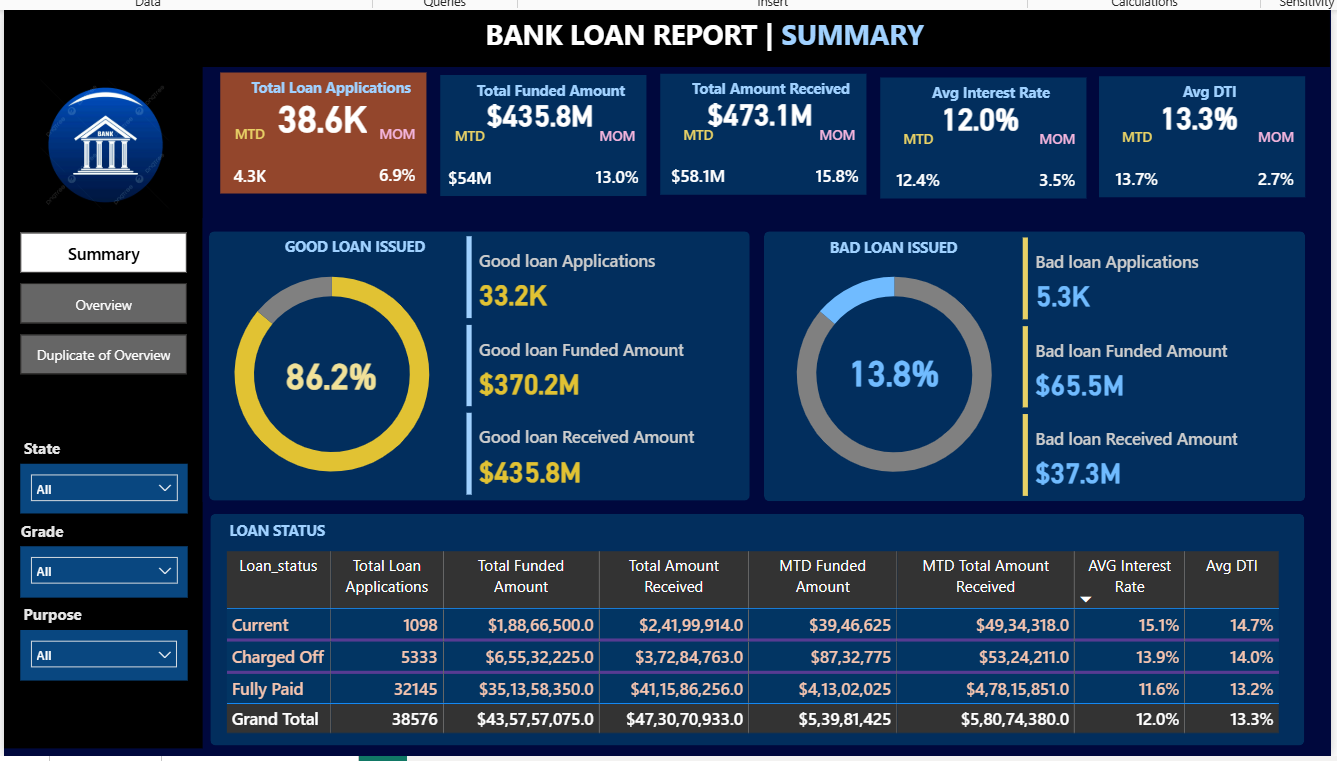

This screenshot's page, from the dashboard's own definition file:
{"tool":"powerbi","page":{"name":"Summary","canvas":[1280,720],"ordinal":0},"visuals":[{"type":"shape","box":[209.2,60.6,199.1,116.9],"z":0,"group":"g1"},{"type":"shape","box":[633.4,62.1,199.1,116.9],"z":0,"group":"g3"},{"type":"shape","box":[421.6,63.5,199.1,116.9],"z":0,"group":"g2"},{"type":"shape","box":[1056.7,64.2,199.1,116.9],"z":0,"group":"g5"},{"type":"shape","box":[845.2,65.4,199.1,116.9],"z":0,"group":"g4"},{"type":"shape","box":[197.9,213.5,522,260],"z":0},{"type":"cardVisual","fields":{"Data":["financial_loan.Total Loan Application"]},"box":[235.2,60.6,144.3,76.5],"z":1000,"group":"g1"},{"type":"cardVisual","fields":{"Data":["financial_loan.Total Amount Received"]},"box":[634.4,60.6,190.4,72.1],"z":1000,"group":"g3"},{"type":"cardVisual","fields":{"Data":["financial_loan.Total Funded Amount"]},"box":[422.6,62,190.4,72.1],"z":1000,"group":"g2"},{"type":"cardVisual","fields":{"Data":["financial_loan.Avg DTI"]},"box":[1057.7,62.7,190.4,72.1],"z":1000,"group":"g5"},{"type":"cardVisual","fields":{"Data":["financial_loan.AVG Interest Rate"]},"box":[846.2,63.9,190.4,72.1],"z":1000,"group":"g4"},{"type":"donutChart","fields":{"Category":["financial_loan.Good v Bad Loan"],"Y":["financial_loan.Total Loan Applications"]},"box":[191.8,229.2,249.7,244.9],"z":1000},{"type":"shape","box":[0,0,1279.7,55],"z":2000},{"type":"textbox","box":[223.6,60.6,184.7,30.3],"z":2000,"group":"g1"},{"type":"textbox","box":[647.8,62.1,184.7,30.3],"z":2000,"group":"g3"},{"type":"textbox","box":[436,63.5,184.7,30.3],"z":2000,"group":"g2"},{"type":"textbox","box":[1071.1,64.2,184.7,30.3],"z":2000,"group":"g5"},{"type":"textbox","box":[859.6,65.4,184.7,30.3],"z":2000,"group":"g4"},{"type":"cardVisual","title":"MTD ","fields":{"Data":["financial_loan.MTD Loan Applications"]},"box":[199.1,109.7,76.5,77.9],"z":3000,"group":"g1"},{"type":"cardVisual","title":"MTD ","fields":{"Data":["financial_loan.MTD Total Amount Received"]},"box":[623.9,111.8,92.9,77.2],"z":3000,"group":"g3"},{"type":"cardVisual","title":"MTD ","fields":{"Data":["financial_loan.MTD Funded Amount"]},"box":[411.5,112.5,76.5,77.9],"z":3000,"group":"g2"},{"type":"cardVisual","title":"MTD ","fields":{"Data":["financial_loan.MTD Avg DTI"]},"box":[1047.2,113.9,92.9,77.2],"z":3000,"group":"g5"},{"type":"cardVisual","title":"MTD ","fields":{"Data":["financial_loan.MTD Avg Int Rate"]},"box":[835.7,115.1,92.9,77.2],"z":3000,"group":"g4"},{"type":"textbox","box":[226.5,213.5,223.6,30.3],"z":3000},{"type":"shape","box":[0,47.1,191.8,666],"z":4000},{"type":"cardVisual","title":"MOM","fields":{"Data":["financial_loan.MOM Loan Application"]},"box":[341.9,109.7,76.5,66.4],"z":4000,"group":"g1"},{"type":"cardVisual","title":"MOM","fields":{"Data":["financial_loan.MOM Total Amount Received"]},"box":[766.1,111.1,76.5,66.4],"z":4000,"group":"g3"},{"type":"cardVisual","title":"MOM","fields":{"Data":["financial_loan.MOM Total Funded Amount"]},"box":[554.3,112.5,76.5,66.4],"z":4000,"group":"g2"},{"type":"cardVisual","title":"MOM","fields":{"Data":["financial_loan.MOM Avg DTI"]},"box":[1189.4,113.2,76.5,66.4],"z":4000,"group":"g5"},{"type":"cardVisual","title":"MOM","fields":{"Data":["financial_loan.MOM Avg Interest Rate"]},"box":[977.9,114.4,76.5,66.4],"z":4000,"group":"g4"},{"type":"cardVisual","fields":{"Data":["financial_loan.Good Loan %"]},"box":[253.9,310.2,125.5,77.9],"z":5000},{"type":"textbox","box":[459.7,0,480.2,47.1],"z":6000},{"type":"group","id":"g1","title":"Group 1","box":[199.1,60.6,219.3,127],"z":7000},{"type":"group","id":"g2","title":"Group 1","box":[411.5,62,219.3,128.4],"z":8000},{"type":"group","id":"g3","title":"Group 1","box":[623.9,60.6,218.7,128.4],"z":9000},{"type":"group","id":"g4","title":"Group 1","box":[835.7,63.9,218.4,127.9],"z":10000},{"type":"shape","box":[199.1,486.2,1056.1,223.6],"z":11000},{"type":"group","id":"g5","title":"Group 1","box":[1047.2,62.7,218.4,127.9],"z":12000},{"type":"shape","box":[733.5,213.5,522.4,260.6],"z":13000},{"type":"cardVisual","fields":{"Data":["financial_loan.Good loan Applications","financial_loan.Good loan Funded Amount","financial_loan.Good loan Received Amount"]},"box":[441.5,213.5,274.1,261.1],"z":14000},{"type":"donutChart","fields":{"Category":["financial_loan.Good v Bad Loan"],"Y":["financial_loan.Total Loan Applications"]},"box":[734.4,229.4,249.6,245.3],"z":15000},{"type":"textbox","box":[766.1,215,184.7,30.3],"z":16000},{"type":"cardVisual","fields":{"Data":["financial_loan.Bad Loan %"]},"box":[796.4,305.9,125.5,77.9],"z":17000},{"type":"cardVisual","fields":{"Data":["financial_loan.Bad loan Applications","financial_loan.Bad loan Funded Amount","financial_loan.Bad loan Received Amount"]},"box":[978.2,215,274.1,261.1],"z":18000},{"type":"tableEx","fields":{"Values":["financial_loan.loan_status","financial_loan.Total Loan Applications","financial_loan.Total Funded Amount","financial_loan.Total Amount Received","financial_loan.MTD Funded Amount","financial_loan.MTD Total Amount Received","financial_loan.AVG Interest Rate","financial_loan.Avg DTI"]},"box":[209.2,518,1043.1,191.9],"z":19000},{"type":"textbox","box":[209.2,487.7,181.8,30.3],"z":20000},{"type":"slicer","fields":{"Values":["financial_loan.address_state"]},"box":[15.7,437.9,161.7,48.3],"z":21000},{"type":"textbox","box":[7.2,407.8,59.1,30.2],"z":22000},{"type":"slicer","fields":{"Values":["financial_loan.grade"]},"box":[15.7,517.6,161.7,49.5],"z":23000},{"type":"slicer","fields":{"Values":["financial_loan.purpose"]},"box":[15.9,598.7,161.6,49.1],"z":24000},{"type":"textbox","box":[1.2,487.4,71.2,30.2],"z":25000},{"type":"textbox","box":[7.2,568.4,79.4,30.3],"z":26000},{"type":"image","box":[7.2,60.3,181,139.9],"z":27000},{"type":"pageNavigator","box":[15.7,214.7,161.7,137.5],"z":28000}]}

Visuals, with their boxes on the page's 1280x720 design canvas (x1, y1, x2, y2). These are canvas units, not pixel positions in the 1337x761 screenshot, which may show the page scaled, cropped or inside an application window:
shape: BBox(209, 61, 408, 178)
shape: BBox(633, 62, 832, 179)
shape: BBox(422, 64, 621, 180)
shape: BBox(1057, 64, 1256, 181)
shape: BBox(845, 65, 1044, 182)
shape: BBox(198, 214, 720, 474)
cardVisual - financial_loan.Total Loan Application: BBox(235, 61, 380, 137)
cardVisual - financial_loan.Total Amount Received: BBox(634, 61, 825, 133)
cardVisual - financial_loan.Total Funded Amount: BBox(423, 62, 613, 134)
cardVisual - financial_loan.Avg DTI: BBox(1058, 63, 1248, 135)
cardVisual - financial_loan.AVG Interest Rate: BBox(846, 64, 1037, 136)
donutChart - financial_loan.Good v Bad Loan x financial_loan.Total Loan Applications: BBox(192, 229, 442, 474)
shape: BBox(0, 0, 1280, 55)
textbox: BBox(224, 61, 408, 91)
textbox: BBox(648, 62, 832, 92)
textbox: BBox(436, 64, 621, 94)
textbox: BBox(1071, 64, 1256, 94)
textbox: BBox(860, 65, 1044, 96)
"MTD " cardVisual: BBox(199, 110, 276, 188)
"MTD " cardVisual: BBox(624, 112, 717, 189)
"MTD " cardVisual: BBox(412, 112, 488, 190)
"MTD " cardVisual: BBox(1047, 114, 1140, 191)
"MTD " cardVisual: BBox(836, 115, 929, 192)
textbox: BBox(226, 214, 450, 244)
shape: BBox(0, 47, 192, 713)
"MOM" cardVisual: BBox(342, 110, 418, 176)
"MOM" cardVisual: BBox(766, 111, 843, 178)
"MOM" cardVisual: BBox(554, 112, 631, 179)
"MOM" cardVisual: BBox(1189, 113, 1266, 180)
"MOM" cardVisual: BBox(978, 114, 1054, 181)
cardVisual - financial_loan.Good Loan %: BBox(254, 310, 379, 388)
textbox: BBox(460, 0, 940, 47)
"Group 1" group: BBox(199, 61, 418, 188)
"Group 1" group: BBox(412, 62, 631, 190)
"Group 1" group: BBox(624, 61, 843, 189)
"Group 1" group: BBox(836, 64, 1054, 192)
shape: BBox(199, 486, 1255, 710)
"Group 1" group: BBox(1047, 63, 1266, 191)
shape: BBox(734, 214, 1256, 474)
cardVisual - financial_loan.Good loan Applications x financial_loan.Good loan Funded Amount: BBox(442, 214, 716, 475)
donutChart - financial_loan.Good v Bad Loan x financial_loan.Total Loan Applications: BBox(734, 229, 984, 475)
textbox: BBox(766, 215, 951, 245)
cardVisual - financial_loan.Bad Loan %: BBox(796, 306, 922, 384)
cardVisual - financial_loan.Bad loan Applications x financial_loan.Bad loan Funded Amount: BBox(978, 215, 1252, 476)
tableEx - financial_loan.loan_status x financial_loan.Total Loan Applications: BBox(209, 518, 1252, 710)
textbox: BBox(209, 488, 391, 518)
slicer - financial_loan.address_state: BBox(16, 438, 177, 486)
textbox: BBox(7, 408, 66, 438)
slicer - financial_loan.grade: BBox(16, 518, 177, 567)
slicer - financial_loan.purpose: BBox(16, 599, 178, 648)
textbox: BBox(1, 487, 72, 518)
textbox: BBox(7, 568, 87, 599)
image: BBox(7, 60, 188, 200)
pageNavigator: BBox(16, 215, 177, 352)
